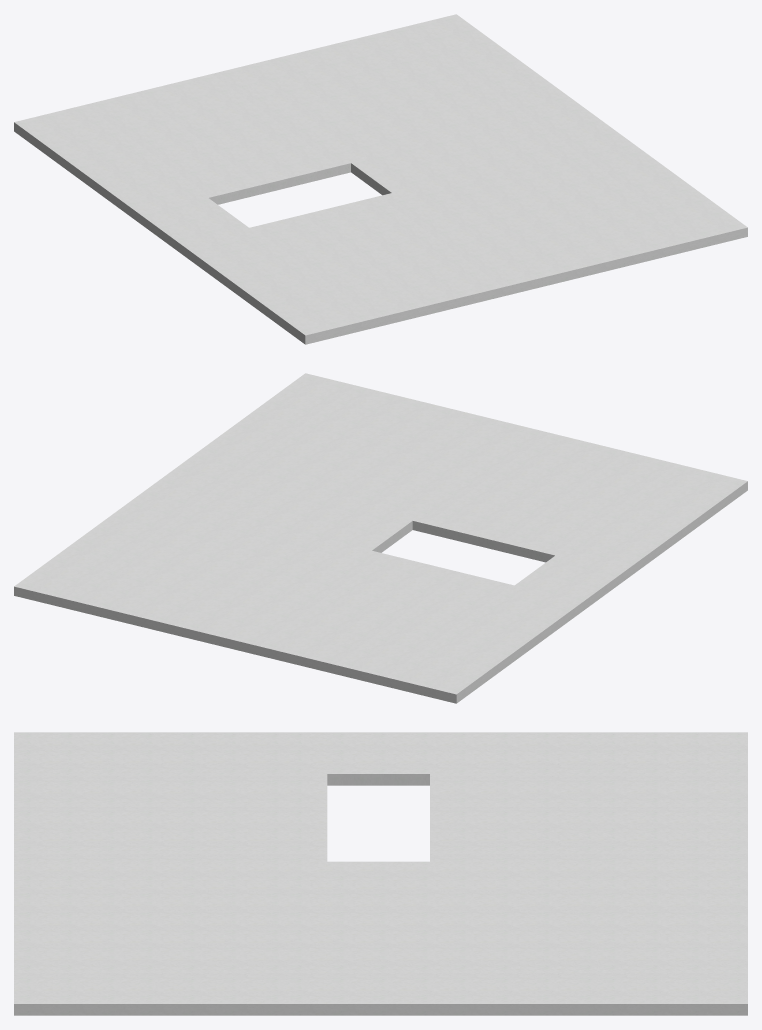
Rendered from G層娛樂室 ceiling 20210813.gltf.
3 renders of one model, top to bottom at view 1: azimuth 30°, elevation 25°; view 2: azimuth 150°, elevation 25°; view 3: azimuth 270°, elevation 25°, orthographic. The views are drawn at different scales.
Parts seen in each view (by area): view 1: root; view 2: root; view 3: root.
Boxes of the visible parts, x1,y1,x2,y2 form: root: [14, 14, 747, 344]; root: [14, 373, 747, 703]; root: [14, 732, 747, 1015].
Bounding box in the file's own units: 10.01 × 0.2 × 11.42.
1 material, 1 textured.
